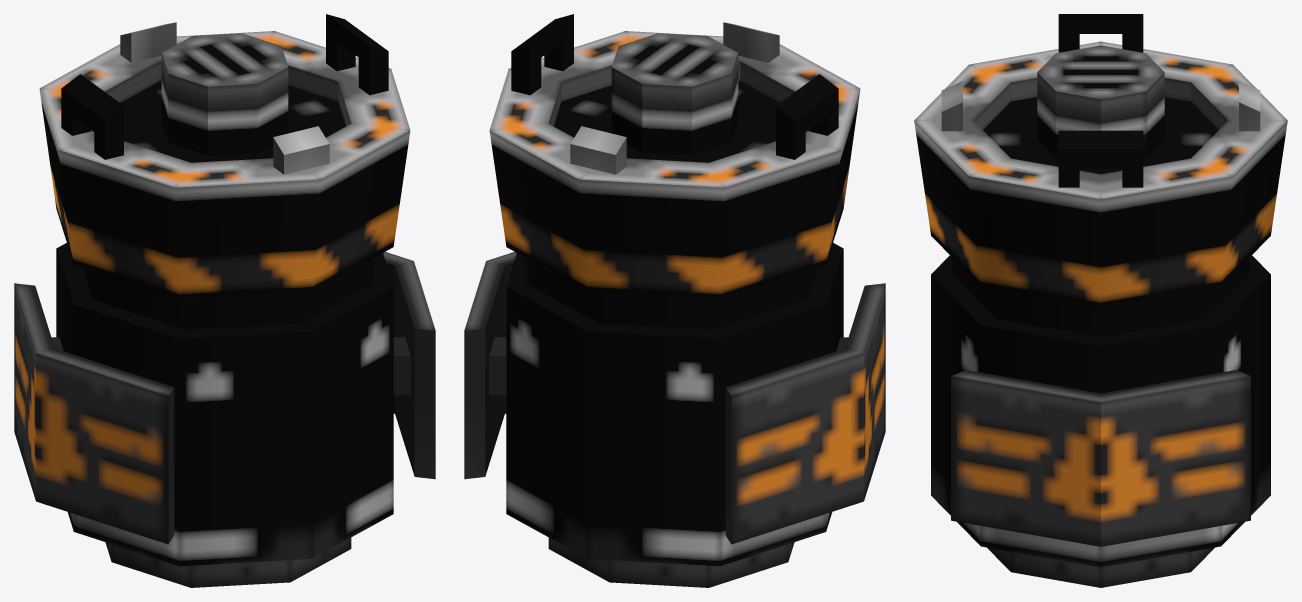
The model's file is Barrel_Hazard.fbx.
3 views of the same model, side by side, from view 1: azimuth 30°, elevation 25°; view 2: azimuth 150°, elevation 25°; view 3: azimuth 270°, elevation 25° (orthographic). The views are drawn at different scales.
Parts seen in each view (by area): view 1: Barrel_Hazard; view 2: Barrel_Hazard; view 3: Barrel_Hazard.
Boxes of the visible parts, x1,y1,x2,y2 form: Barrel_Hazard: (14,14,435,587); Barrel_Hazard: (464,14,885,587); Barrel_Hazard: (914,14,1287,587).
Bounding box in the file's own units: 10 × 12 × 8.8.
